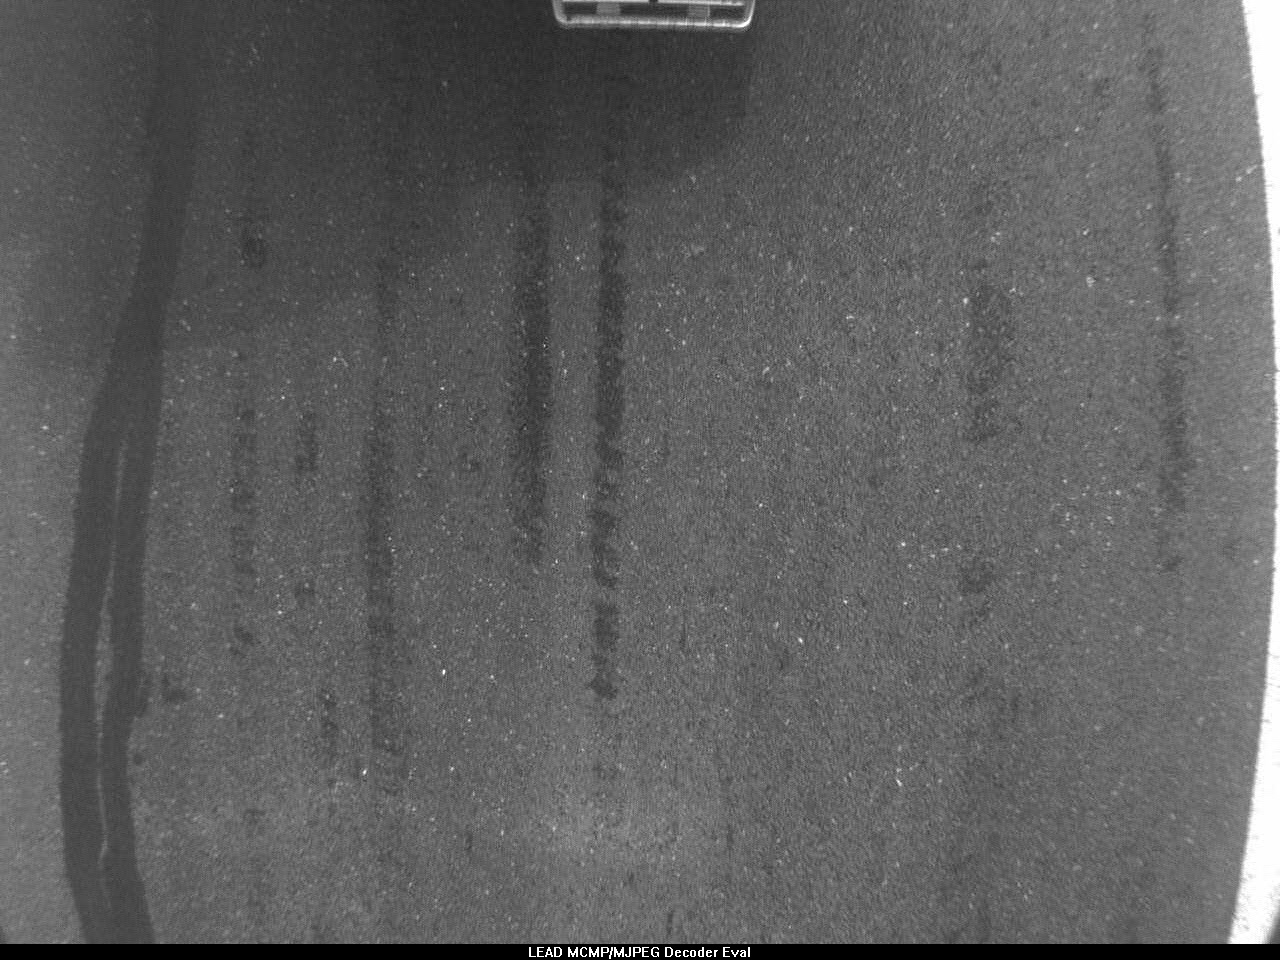sealed: (52, 238, 218, 944)
